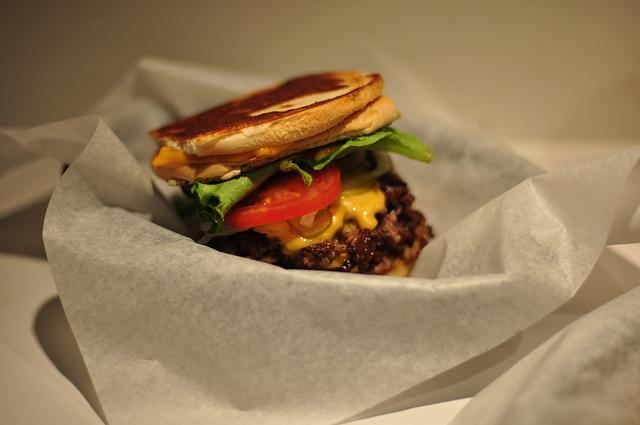lettuce: (180, 126, 433, 234)
tomato: (223, 162, 342, 228)
